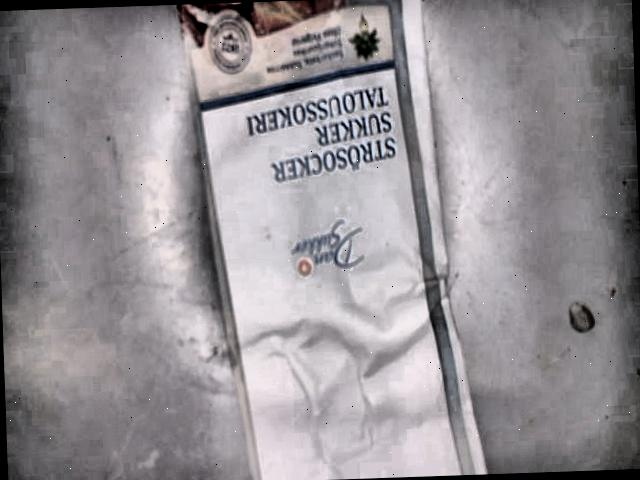Paper: (177, 0, 489, 480)
